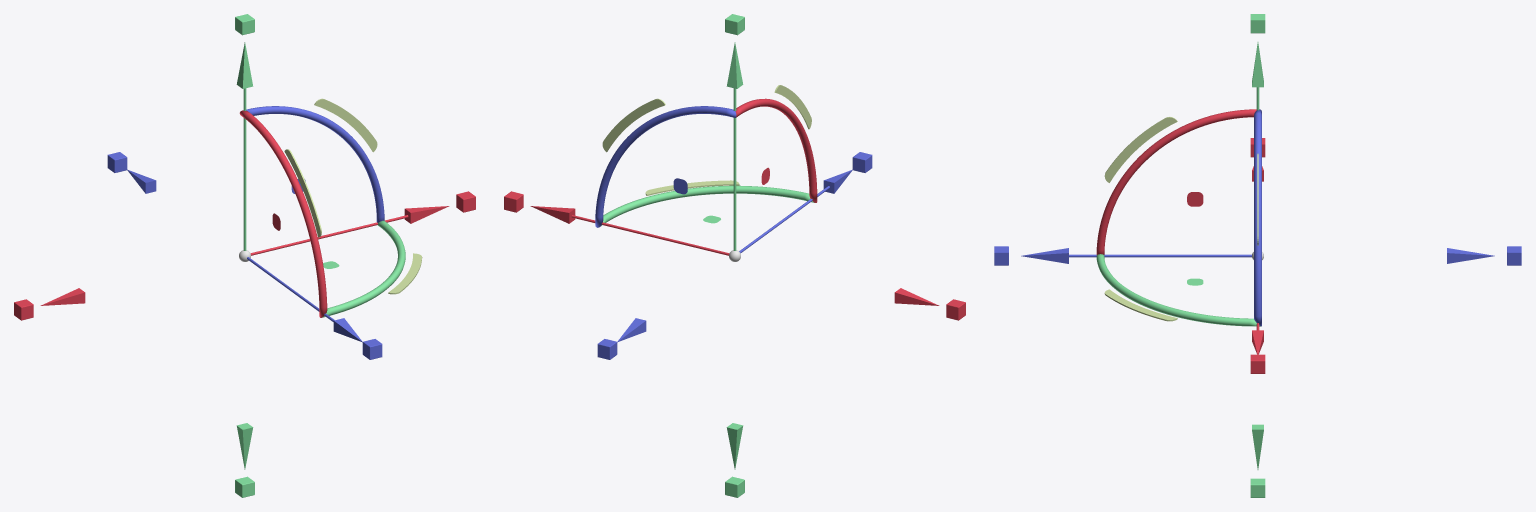
File: 3D-TransformGizmo.glb
3 renders of one model, left to right at view 1: azimuth 30°, elevation 25°; view 2: azimuth 150°, elevation 25°; view 3: azimuth 270°, elevation 25°, orthographic.
Parts seen in each view (by area): view 1: rotate_x_hit, uniform_scale, rotate_z_hit, translate_y, translate_x, rotate_y_hit, translate_z, scale_z, scale_y, scale_x; view 2: rotate_z_hit, rotate_y_hit, uniform_scale, translate_y, translate_x, rotate_x_hit, translate_z, scale_z, scale_y, scale_x; view 3: rotate_x_hit, rotate_z_hit, uniform_scale, translate_z, rotate_y_hit, translate_y, scale_y, scale_z.
Boxes of the visible parts, x1=… form: rotate_x_hit: x1=239, y1=110, x2=327, y2=317; uniform_scale: x1=284, y1=98, x2=422, y2=294; rotate_z_hit: x1=246, y1=106, x2=384, y2=222; translate_y: x1=236, y1=42, x2=253, y2=469; translate_x: x1=40, y1=206, x2=449, y2=305; rotate_y_hit: x1=322, y1=220, x2=405, y2=317; translate_z: x1=127, y1=169, x2=362, y2=342; scale_z: x1=107, y1=152, x2=382, y2=359; scale_y: x1=235, y1=14, x2=254, y2=497; scale_x: x1=14, y1=191, x2=475, y2=320; rotate_z_hit: x1=595, y1=106, x2=736, y2=227; rotate_y_hit: x1=601, y1=185, x2=814, y2=225; uniform_scale: x1=602, y1=85, x2=811, y2=195; translate_y: x1=726, y1=42, x2=743, y2=469; translate_x: x1=530, y1=206, x2=939, y2=305; rotate_x_hit: x1=735, y1=98, x2=817, y2=202; translate_z: x1=617, y1=169, x2=852, y2=342; scale_z: x1=597, y1=152, x2=872, y2=359; scale_y: x1=725, y1=14, x2=744, y2=497; scale_x: x1=504, y1=191, x2=965, y2=320; rotate_x_hit: x1=1096, y1=109, x2=1256, y2=254; rotate_z_hit: x1=1254, y1=109, x2=1261, y2=326; uniform_scale: x1=1104, y1=117, x2=1258, y2=321; translate_z: x1=1021, y1=248, x2=1494, y2=263; rotate_y_hit: x1=1096, y1=254, x2=1260, y2=326; translate_y: x1=1252, y1=42, x2=1263, y2=469; scale_y: x1=1250, y1=14, x2=1265, y2=497; scale_z: x1=994, y1=246, x2=1521, y2=265.
Size of the model in its own units: 9.68 by 9.68 by 9.68.
